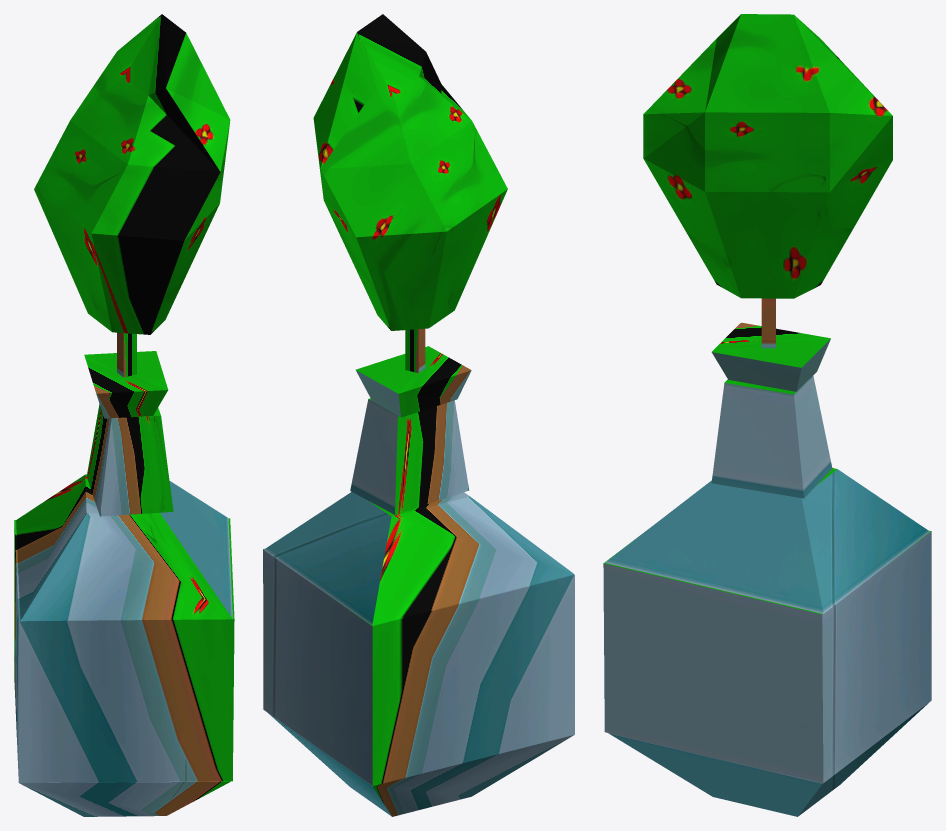
File: PlantCut.glb
3 renders of one model, left to right at view 1: azimuth 30°, elevation 25°; view 2: azimuth 150°, elevation 25°; view 3: azimuth 270°, elevation 25°, orthographic. The views are drawn at different scales.
Visible parts, largest first — view 1: PlantCut; view 2: PlantCut; view 3: PlantCut.
Boxes of the visible parts, x1,y1,x2,y2 form: PlantCut: (14, 14, 234, 816); PlantCut: (263, 14, 574, 816); PlantCut: (603, 14, 931, 816).
Size of the model in its own units: 25.44 by 70.53 by 26.22.
Materials: 1 (1 with a texture image).
